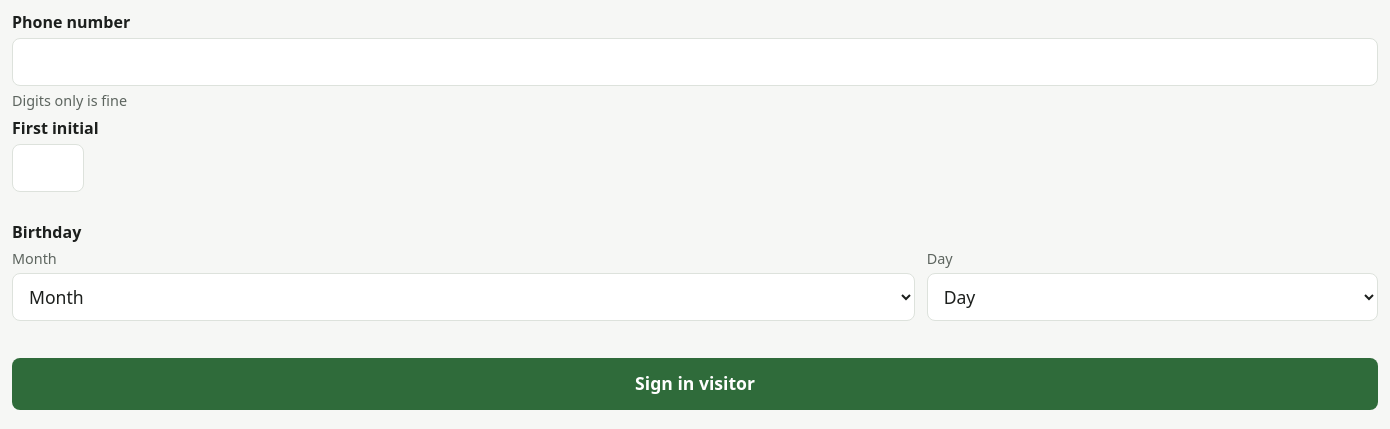
Scenario: SignInForm › shows errors and does not submit when fields are empty
What coordinates should you click on to do the following:
click the button "Sign in visitor"
I would click on:
 (695, 384)
Its box is [12,358,1378,410].
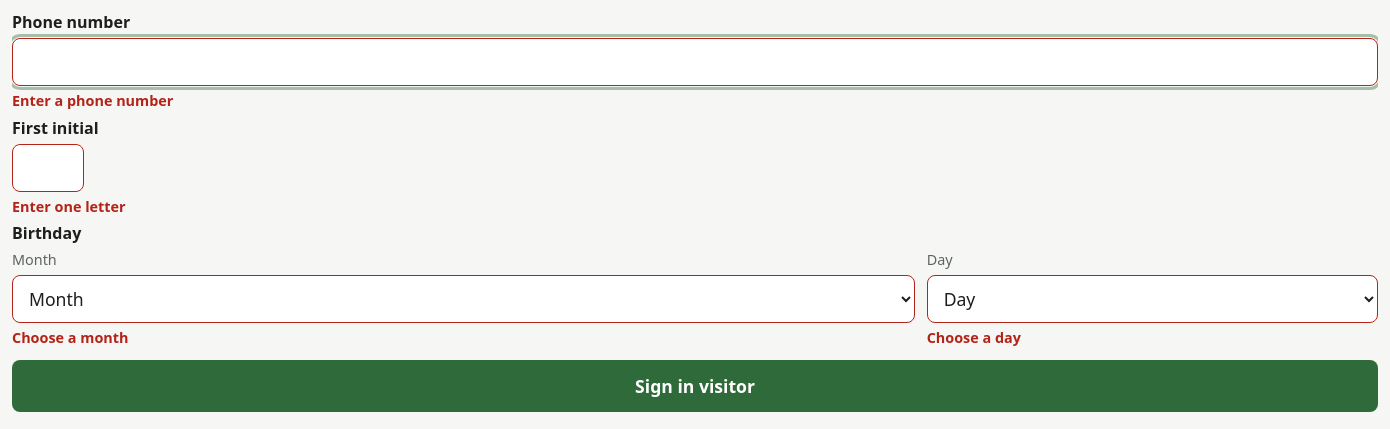
Now the text "Enter a phone number" is shown, box [12,91,173,110]
Now the text "Enter one letter" is shown, box [12,197,126,216]
Now the text "Choose a month" is shown, box [12,328,128,347]
